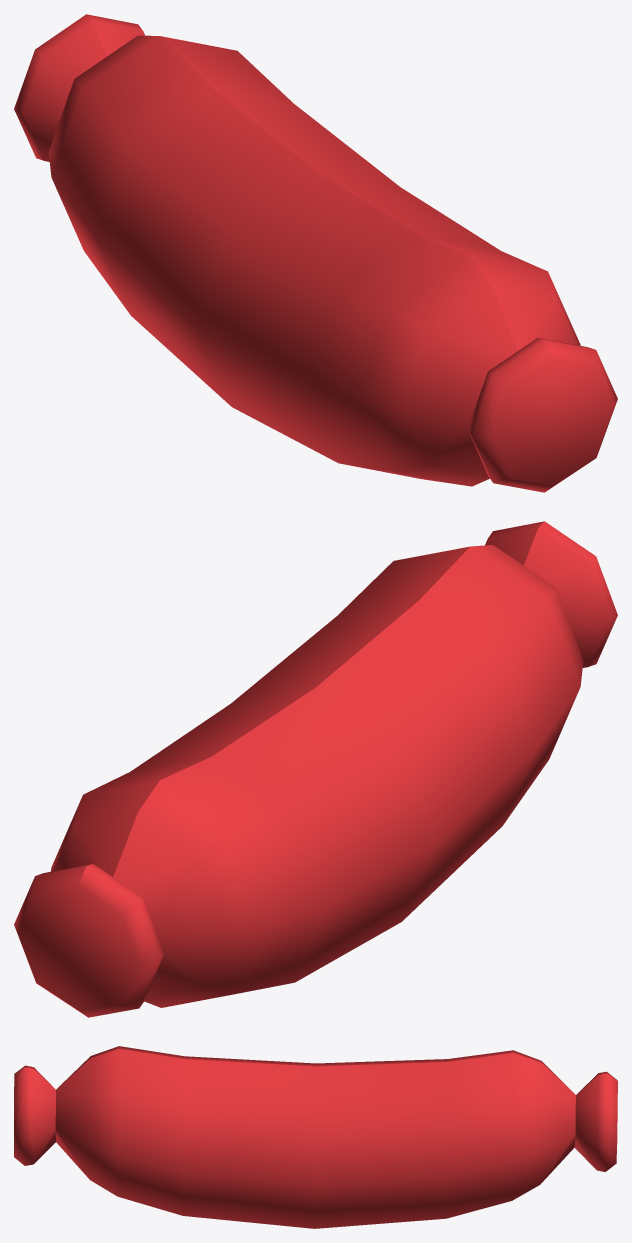
The model's file is SM_Sausage.fbx.
3 views of the same model, one above another, from view 1: azimuth 30°, elevation 25°; view 2: azimuth 150°, elevation 25°; view 3: azimuth 270°, elevation 25° (orthographic). The views are drawn at different scales.
Visible parts, largest first — view 1: SM_Sausage; view 2: SM_Sausage; view 3: SM_Sausage.
Boxes of the visible parts, bbox=[...] form: SM_Sausage: bbox=[14, 14, 617, 492]; SM_Sausage: bbox=[14, 521, 617, 1017]; SM_Sausage: bbox=[14, 1046, 617, 1228].
Size of the model in its own units: 31.41 by 34.88 by 108.
